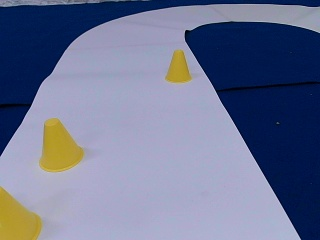cone: (37, 119, 85, 172), (1, 186, 42, 239), (165, 50, 191, 83)
